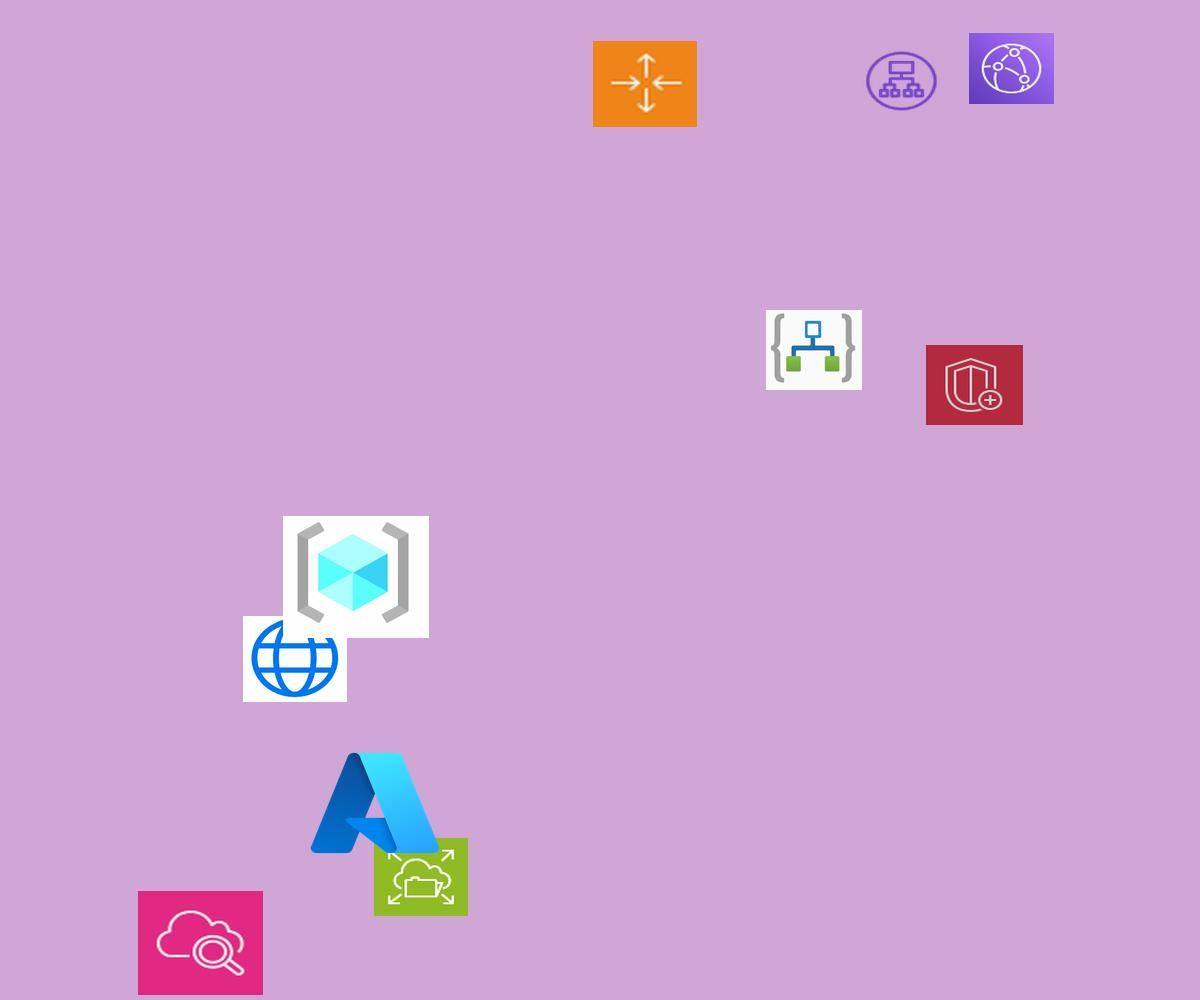AWS-CloudFront: (969, 33, 1054, 104)
AWS-CloudWatch: (138, 891, 263, 995)
AWS-EFS: (374, 838, 468, 916)
AWS-Res_Elastic-Load-Balancing_Application-Load-Balancer: (863, 49, 940, 113)
AWS-Scaling-group: (593, 41, 697, 127)
AWS-Shield: (926, 345, 1023, 425)
Azure_http: (243, 616, 347, 702)
Azure_integration-204-Logic-Apps: (766, 310, 862, 390)
Azure_resource_group: (283, 516, 429, 638)
Azure_services: (305, 745, 445, 861)
